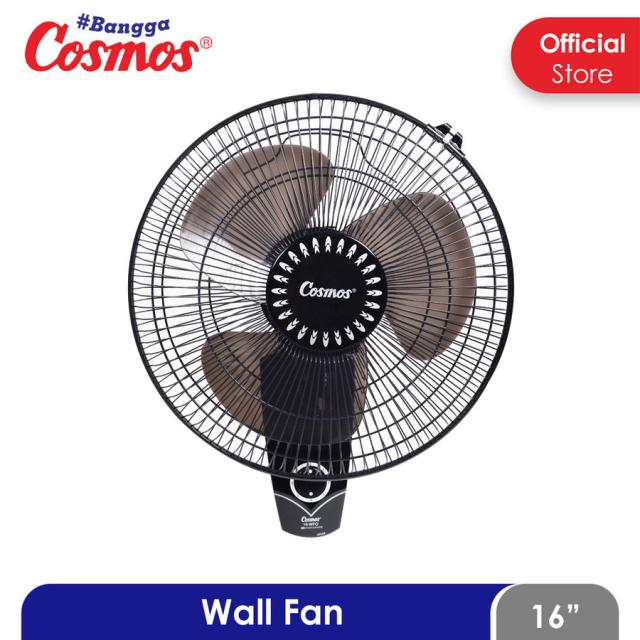fan: (113, 83, 524, 546)
